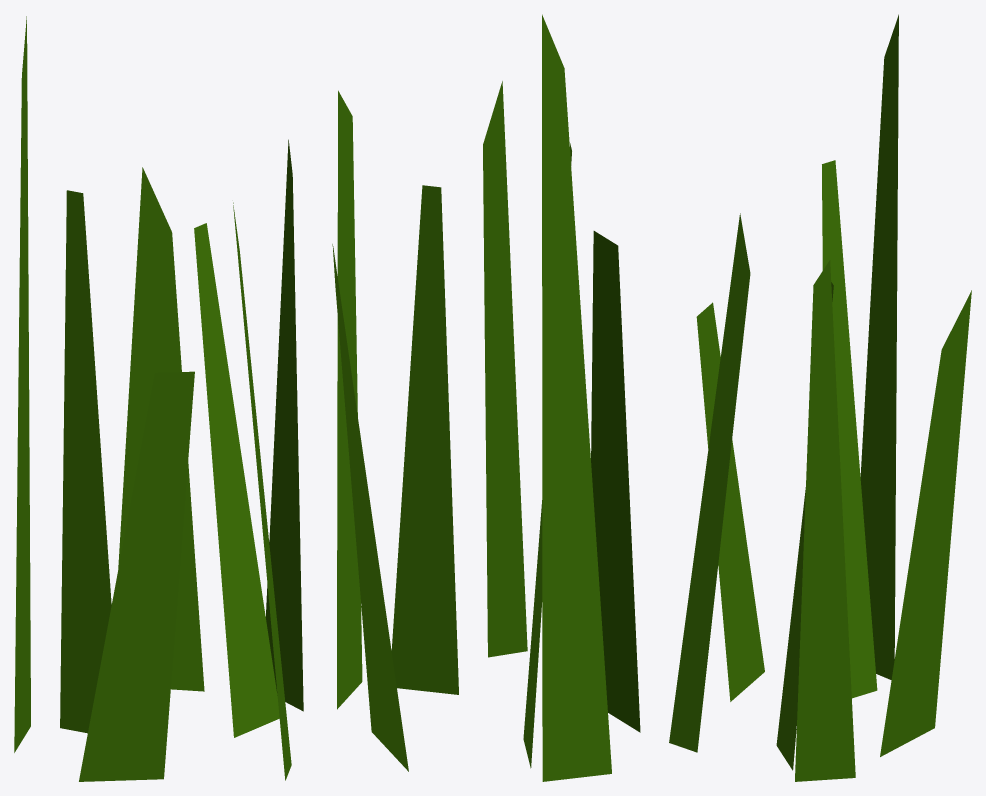
Rendered from T_Grass2Green.fbx.
3 renders of one model, left to right at view 1: azimuth 30°, elevation 25°; view 2: azimuth 150°, elevation 25°; view 3: azimuth 270°, elevation 25°, orthographic. The views are drawn at different scales.
Parts seen in each view (by area): view 1: Plane; view 2: Plane; view 3: Plane.
Part boxes in pixels (<box>): Plane: <box>14,16,303,781</box>; Plane: <box>332,14,640,781</box>; Plane: <box>669,14,971,781</box>.
Bounding box in the file's own units: 0.2177 × 0.5612 × 0.231.
